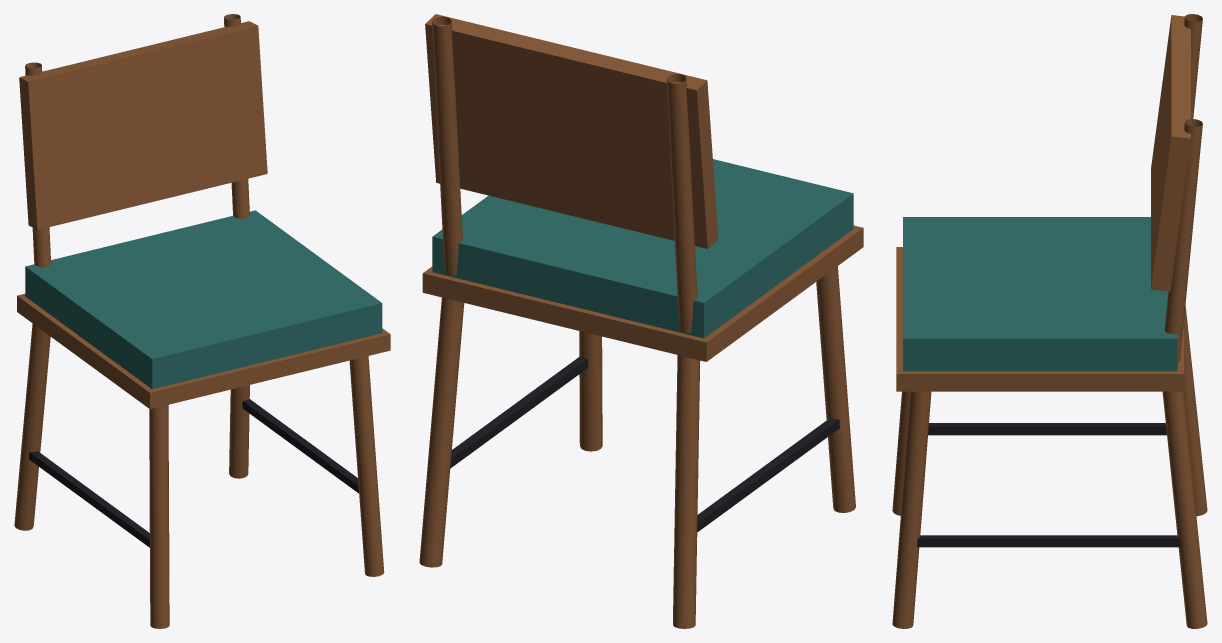
Rendered from cafe-chair.fbx.
3 renders of one model, left to right at view 1: azimuth 30°, elevation 25°; view 2: azimuth 150°, elevation 25°; view 3: azimuth 270°, elevation 25°, orthographic. The views are drawn at different scales.
Parts seen in each view (by area): view 1: seat_frame, cushion, stretcher; view 2: seat_frame, cushion, stretcher; view 3: cushion, seat_frame, stretcher.
Boxes of the visible parts, x1,y1,x2,y2 form: seat_frame: (14,14,390,628); cushion: (25,210,382,389); stretcher: (29,398,358,547); seat_frame: (419,14,863,628); cushion: (432,159,853,338); stretcher: (450,356,839,532); cushion: (903,217,1177,371); seat_frame: (892,14,1207,628); stretcher: (917,423,1180,547).
Bounding box in the file's own units: 46 × 84.28 × 48.19.
